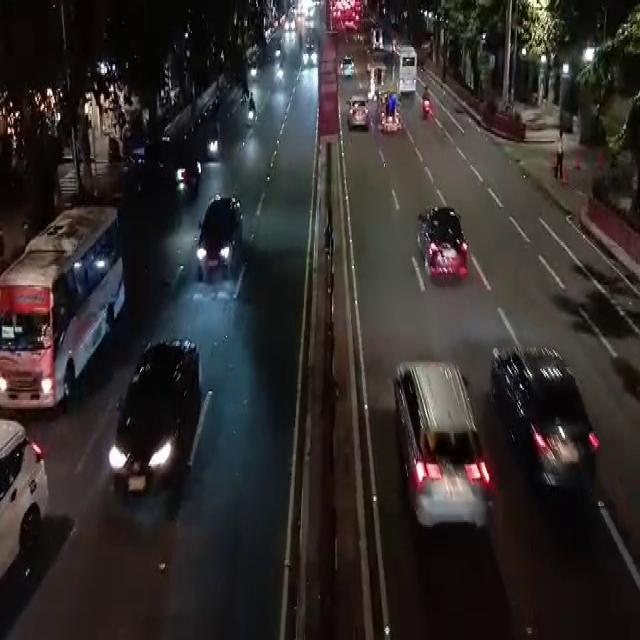bus: (4, 222, 115, 398), (393, 41, 419, 98)
car: (101, 340, 198, 512), (397, 379, 483, 556), (495, 346, 597, 488), (195, 186, 247, 300), (423, 201, 465, 280), (349, 88, 373, 144), (336, 52, 357, 81)
jeepney: (369, 59, 386, 100), (369, 21, 386, 55)
motorcycle: (420, 84, 432, 123), (248, 90, 256, 138)
